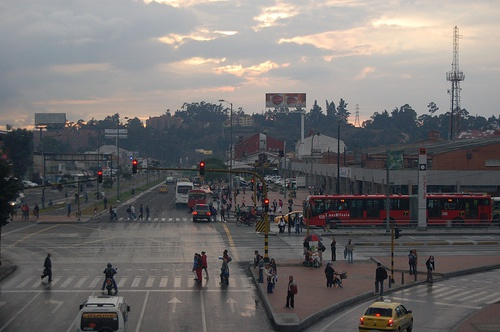non-vehicle: (235, 215, 254, 226), (105, 279, 112, 292)
